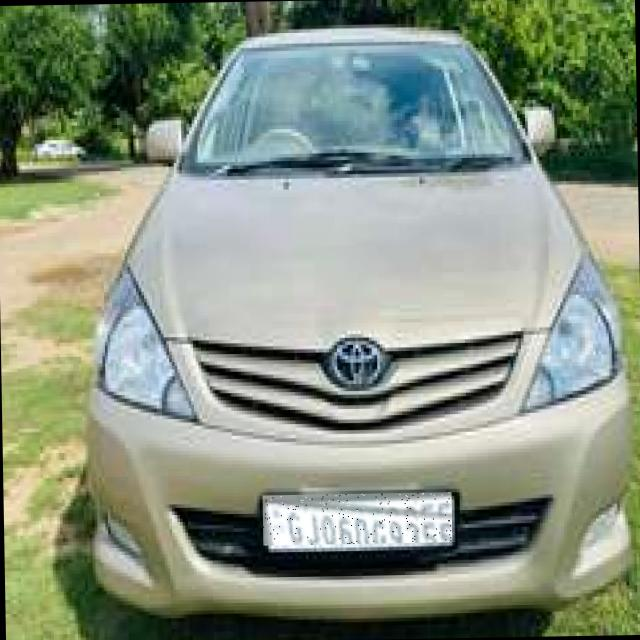Plate: (263, 493, 453, 546)
